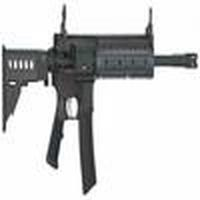gun: (1, 33, 198, 135)
